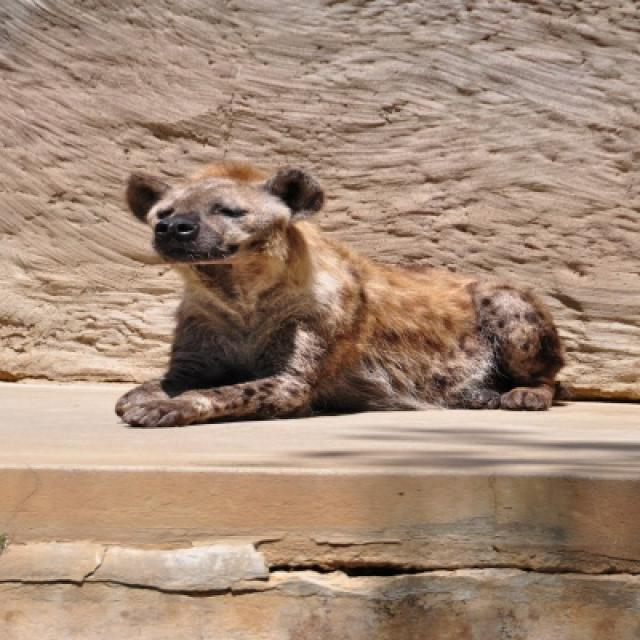hyena: (115, 162, 563, 426)
